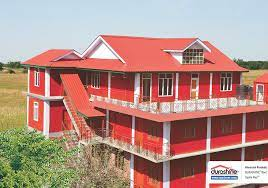Tin-shade House: (24, 34, 262, 182)
